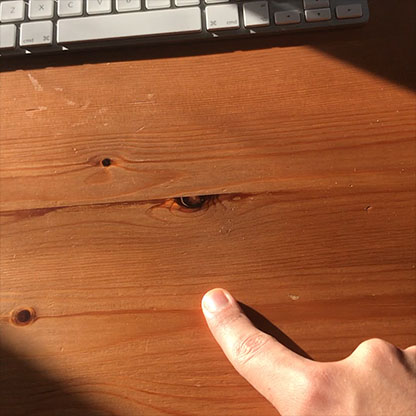fingertip: (191, 283, 237, 320)
